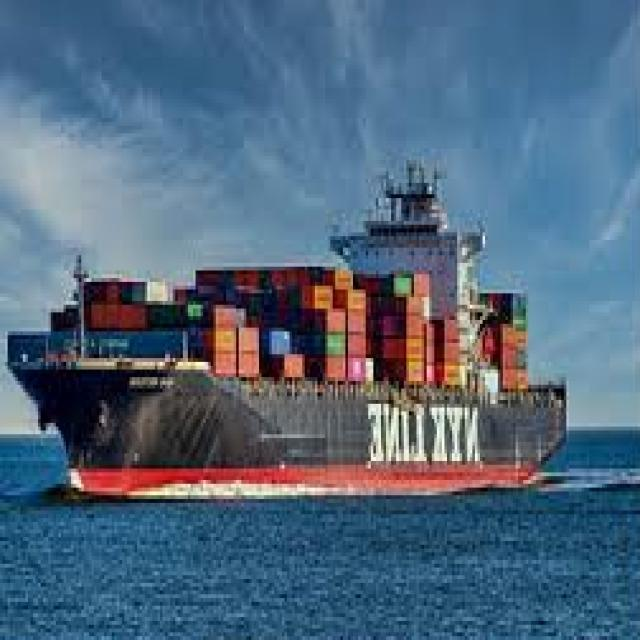cargoship: (10, 147, 573, 503)
